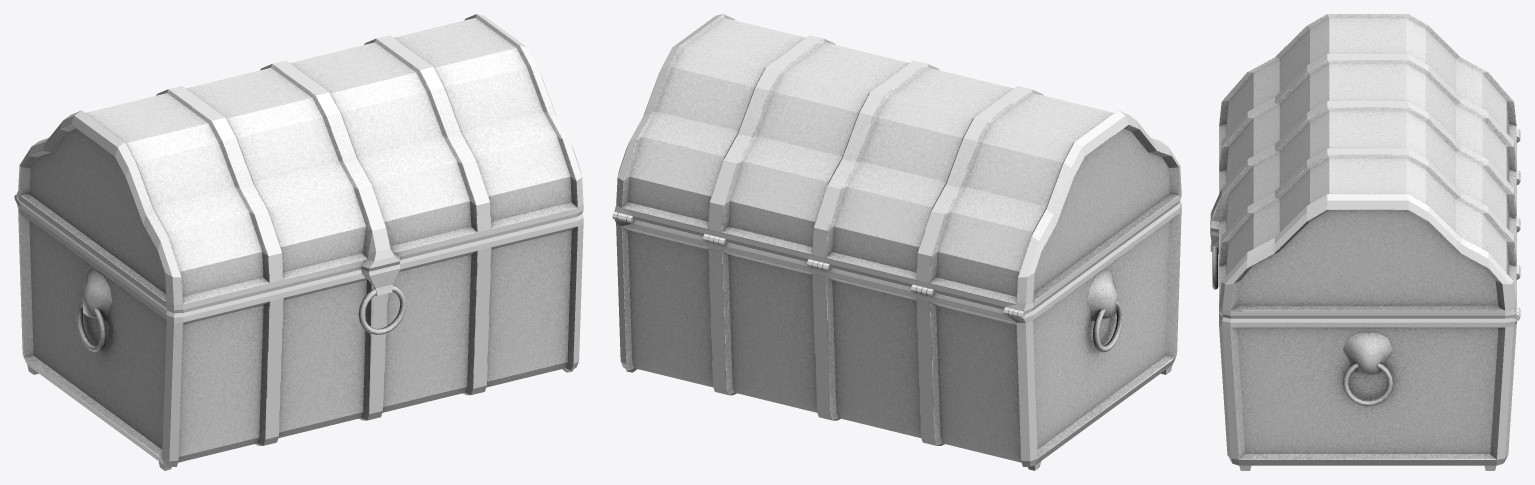
File: Chest.fbx
3 views of the same model, side by side, from view 1: azimuth 30°, elevation 25°; view 2: azimuth 150°, elevation 25°; view 3: azimuth 270°, elevation 25° (orthographic). The views are drawn at different scales.
Parts seen in each view (by area): view 1: Chest_Lid, Chest, Chest_Ring; view 2: Chest_Lid, Chest; view 3: Chest_Lid, Chest.
Part boxes in pixels (<box>): Chest_Lid: <box>16,14,583,313</box>; Chest: <box>14,195,583,470</box>; Chest_Ring: <box>358,285,406,334</box>; Chest_Lid: <box>614,14,1181,314</box>; Chest: <box>612,200,1181,470</box>; Chest_Lid: <box>1210,14,1516,318</box>; Chest: <box>1219,128,1520,470</box>.
Bounding box in the file's own units: 78.01 × 50.55 × 51.85.
